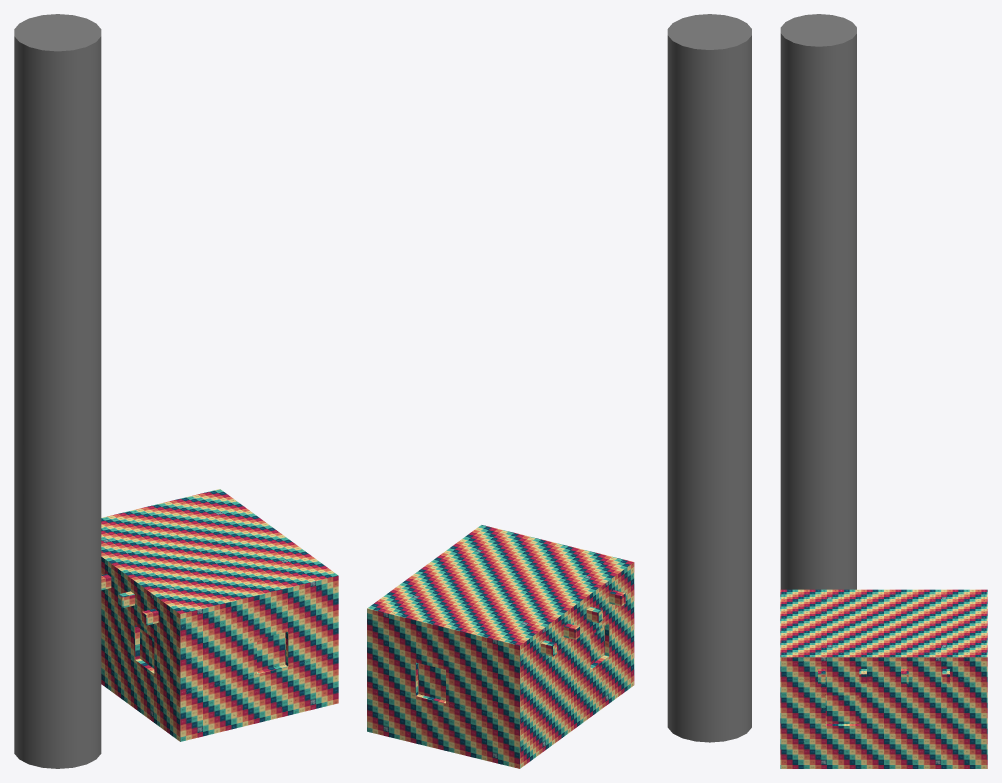
The model's file is Props2_Mesh.FBX.
3 renders of one model, left to right at view 1: azimuth 30°, elevation 25°; view 2: azimuth 150°, elevation 25°; view 3: azimuth 270°, elevation 25°, orthographic. The views are drawn at different scales.
Parts seen in each view (by area): view 1: Box001, Object001; view 2: Box001, Object001; view 3: Box001, Object001.
Part boxes in pixels (left/top/right/bottom): Box001: left=14, top=14, right=101, bottom=768; Object001: left=101, top=489, right=338, bottom=741; Box001: left=667, top=14, right=751, bottom=742; Object001: left=367, top=525, right=634, bottom=768; Box001: left=780, top=14, right=856, bottom=589; Object001: left=780, top=589, right=987, bottom=768.
Bounding box in the file's own units: 82.16 × 182 × 54.5.
Materials: 2 (1 with a texture image).
